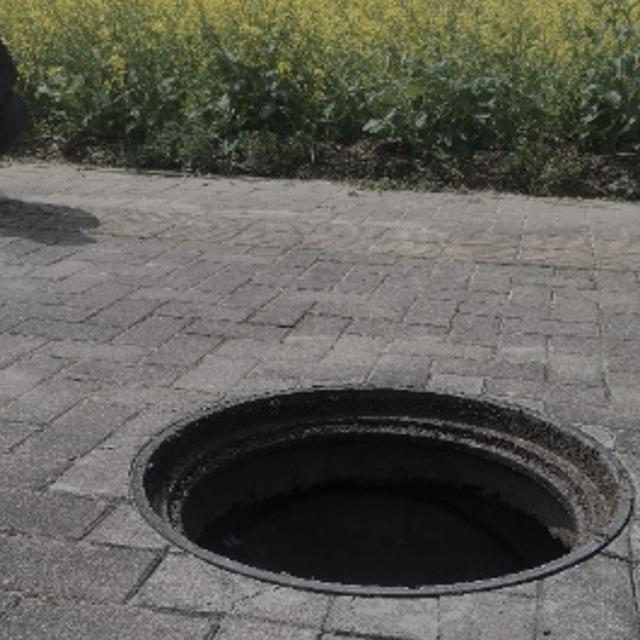lose: (124, 358, 640, 620)
